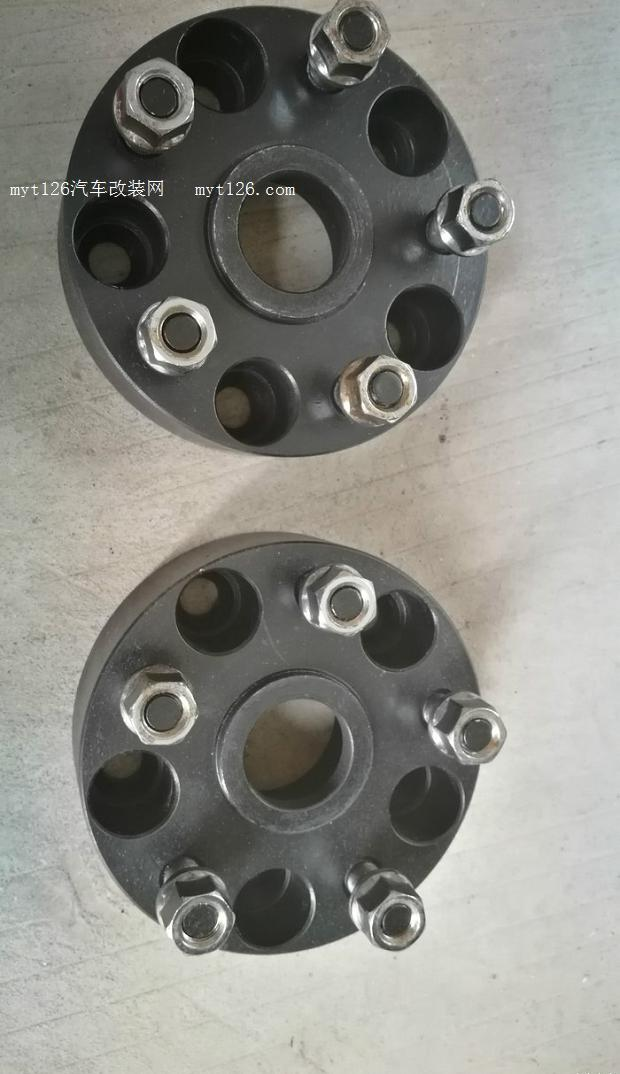bolt_b: (111, 52, 198, 145), (309, 1, 394, 79), (159, 873, 236, 958), (138, 296, 218, 372), (345, 346, 420, 426), (123, 670, 199, 747), (441, 176, 518, 249), (356, 875, 426, 953), (305, 564, 378, 637), (438, 691, 507, 767)
